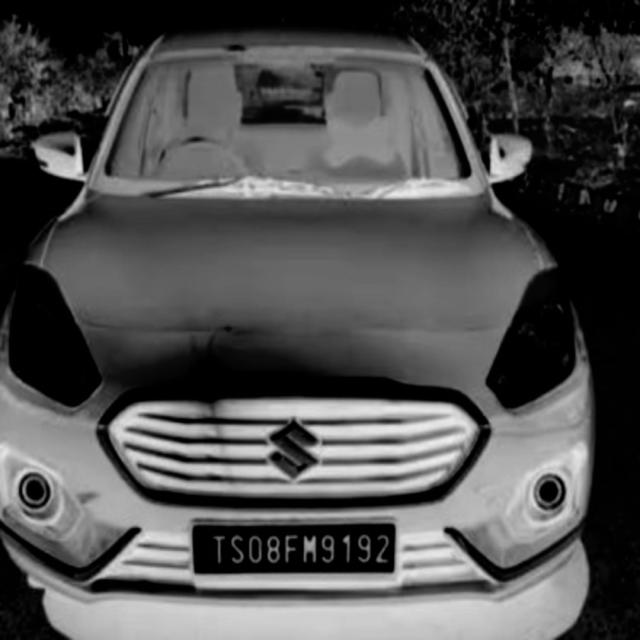Non_registered: (192, 518, 398, 576)
